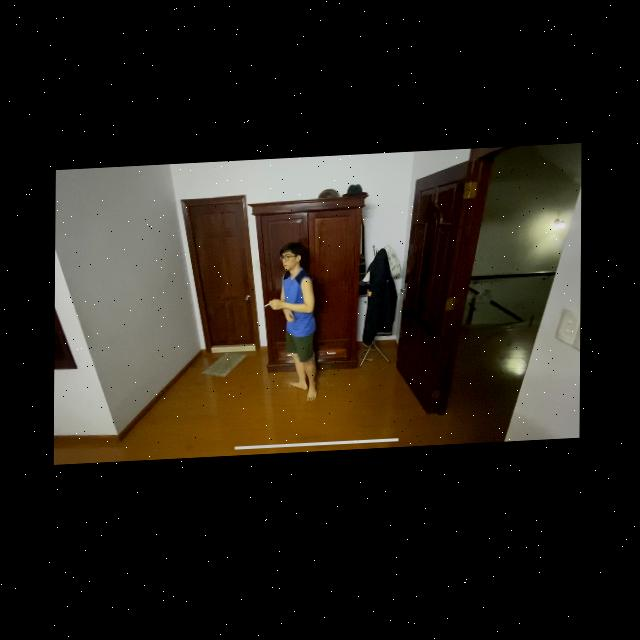cigarette: (265, 305, 271, 309)
